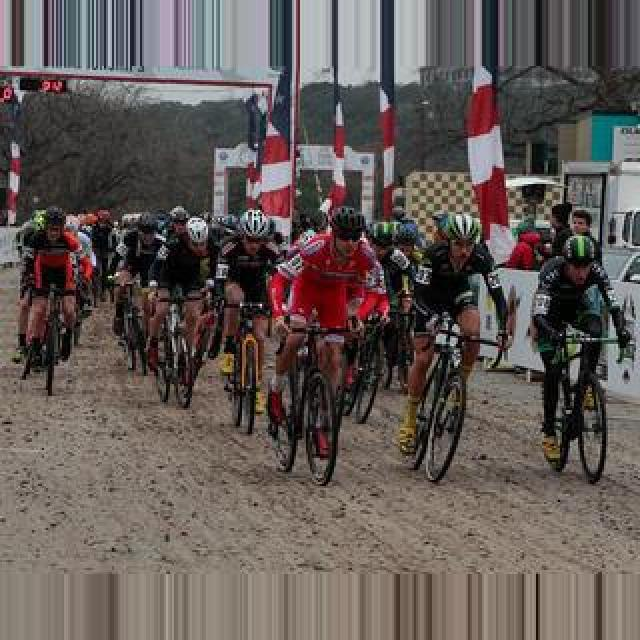MC-Bike: (272, 202, 388, 442), (526, 232, 622, 470), (408, 212, 508, 412), (216, 210, 284, 406), (14, 208, 86, 368), (150, 208, 214, 370), (112, 212, 164, 362)
Person: (270, 310, 354, 484), (536, 318, 616, 484), (406, 316, 482, 484), (22, 272, 82, 396), (220, 296, 268, 434)
